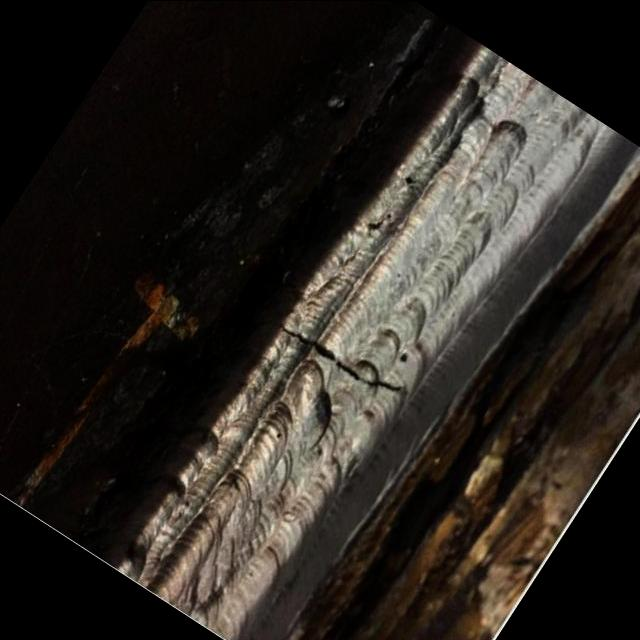defect: (276, 318, 403, 394)
